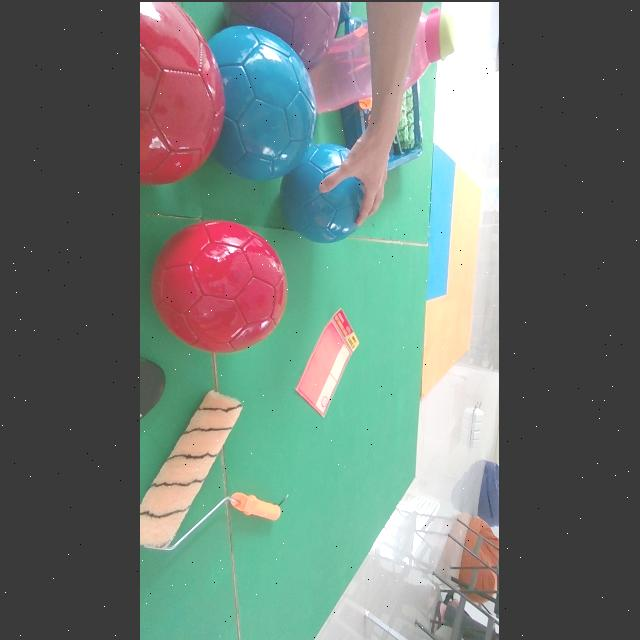B: (212, 24, 318, 178), (282, 142, 365, 242)
P: (227, 0, 341, 68)
R: (153, 219, 287, 352), (140, 0, 225, 183)
